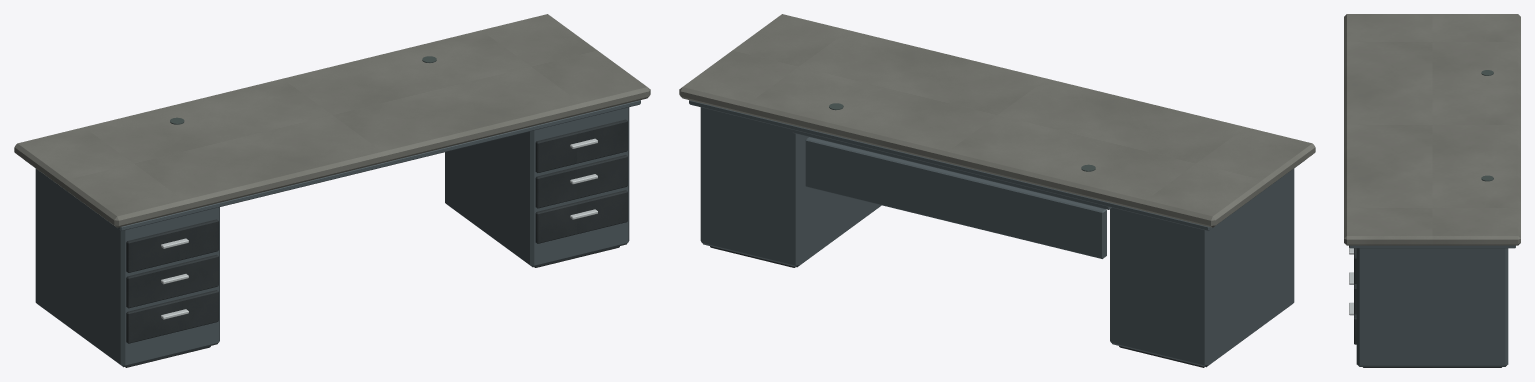
Rendered from Workbench.glb.
The picture shows the model from 3 angles, left to right: view 1: azimuth 30°, elevation 25°; view 2: azimuth 150°, elevation 25°; view 3: azimuth 270°, elevation 25°; orthographic projection. The views are drawn at different scales.
Visible parts, largest first — view 1: Workbench__GraphiteLaminate__mesh, Workbench__BlackenedSteel__mesh, Workbench__Powdercoat__mesh, Workbench__BrushedHardware__mesh; view 2: Workbench__BlackenedSteel__mesh, Workbench__GraphiteLaminate__mesh; view 3: Workbench__GraphiteLaminate__mesh, Workbench__BlackenedSteel__mesh, Workbench__Powdercoat__mesh, Workbench__BrushedHardware__mesh.
Part boxes in pixels (box(x1,y1,x2,y2)): Workbench__GraphiteLaminate__mesh: box(14, 14, 650, 227); Workbench__BlackenedSteel__mesh: box(25, 100, 640, 367); Workbench__Powdercoat__mesh: box(125, 119, 627, 367); Workbench__BrushedHardware__mesh: box(161, 138, 597, 319); Workbench__BlackenedSteel__mesh: box(689, 100, 1304, 367); Workbench__GraphiteLaminate__mesh: box(679, 14, 1315, 227); Workbench__GraphiteLaminate__mesh: box(1344, 14, 1520, 245); Workbench__BlackenedSteel__mesh: box(1349, 245, 1515, 366); Workbench__Powdercoat__mesh: box(1354, 248, 1501, 367); Workbench__BrushedHardware__mesh: box(1349, 248, 1353, 315).
Size of the model in its own units: 2.7 by 0.7895 by 0.9.
Materials: 5 (2 with a texture image).
